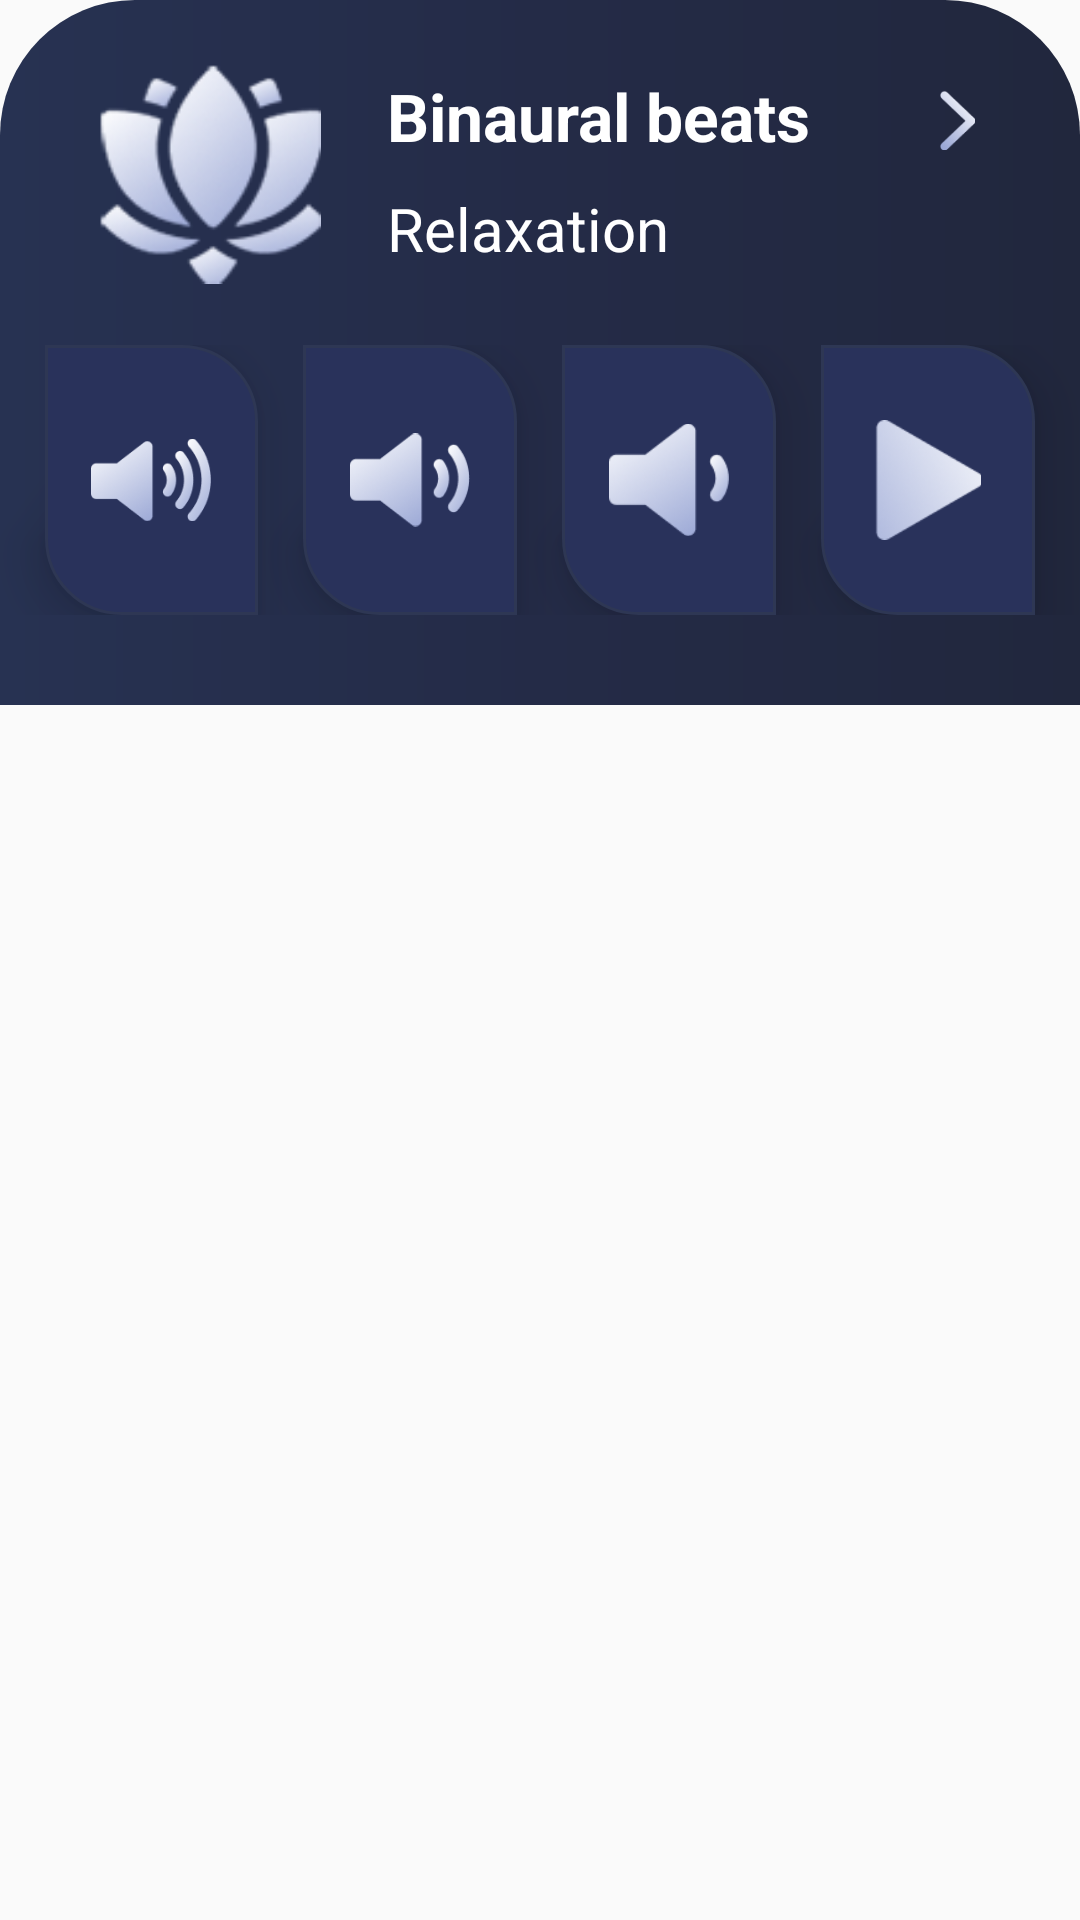

Icons on this 1080*1920 Android screen, each with the point to tap as [x,y]:
play: [928,480]
vol high: [151,480]
vol low: [669,480]
vol medium: [410,480]
